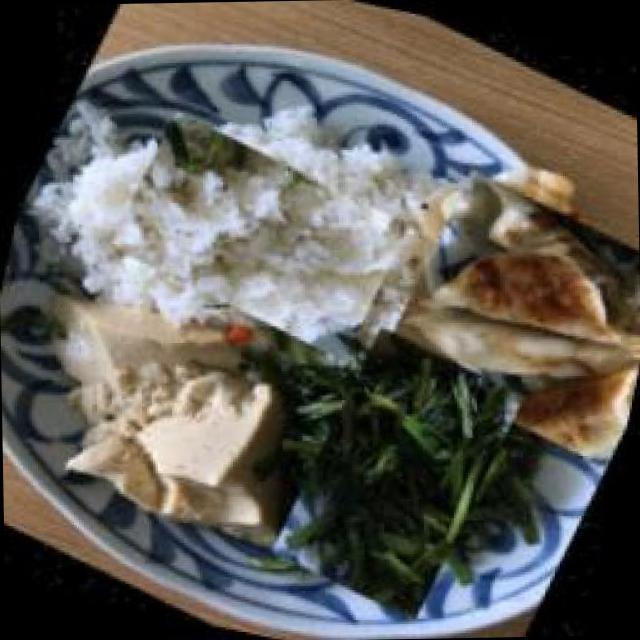fried_dumplings: (362, 152, 640, 472)
rice: (94, 96, 428, 372)
water_spinach: (245, 321, 548, 624)
